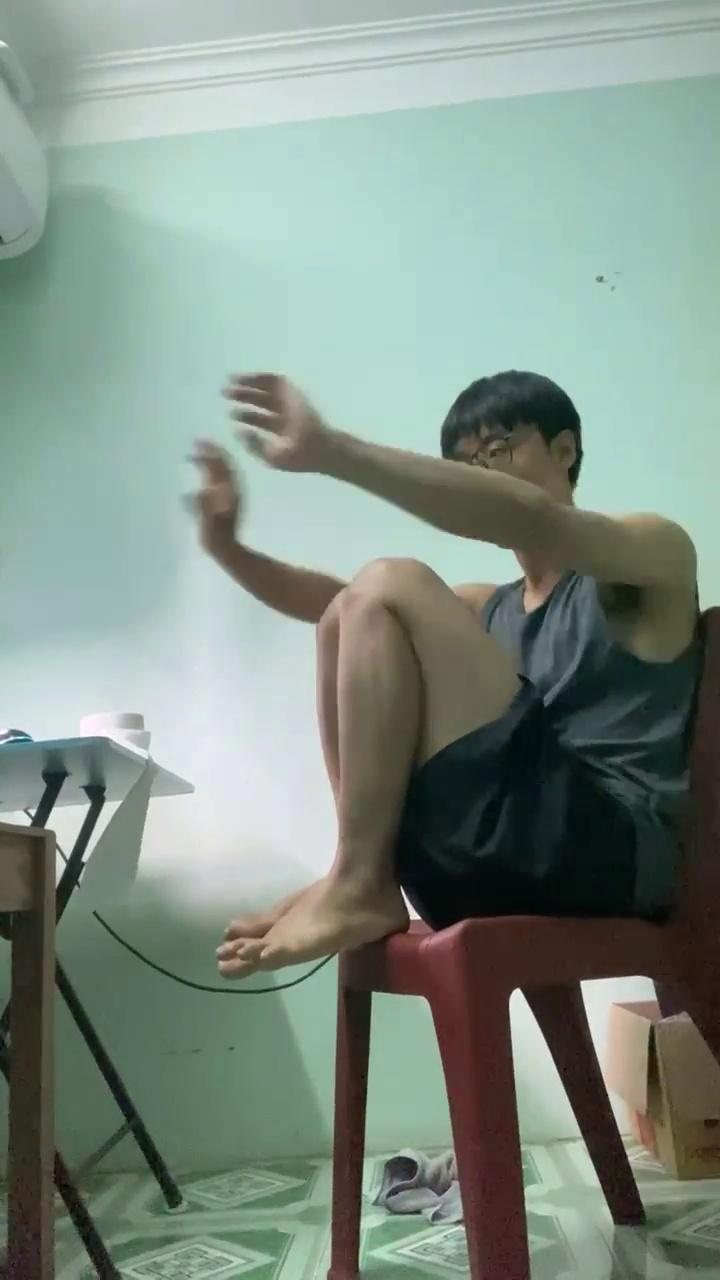BadPosture: (218, 562, 526, 975)
